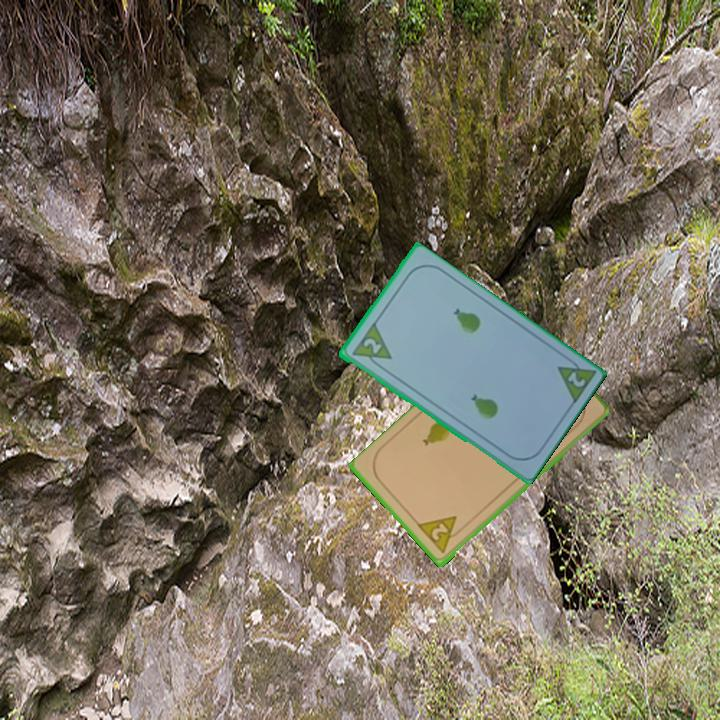2p: (553, 351, 597, 408), (348, 320, 394, 373), (415, 512, 467, 558)
